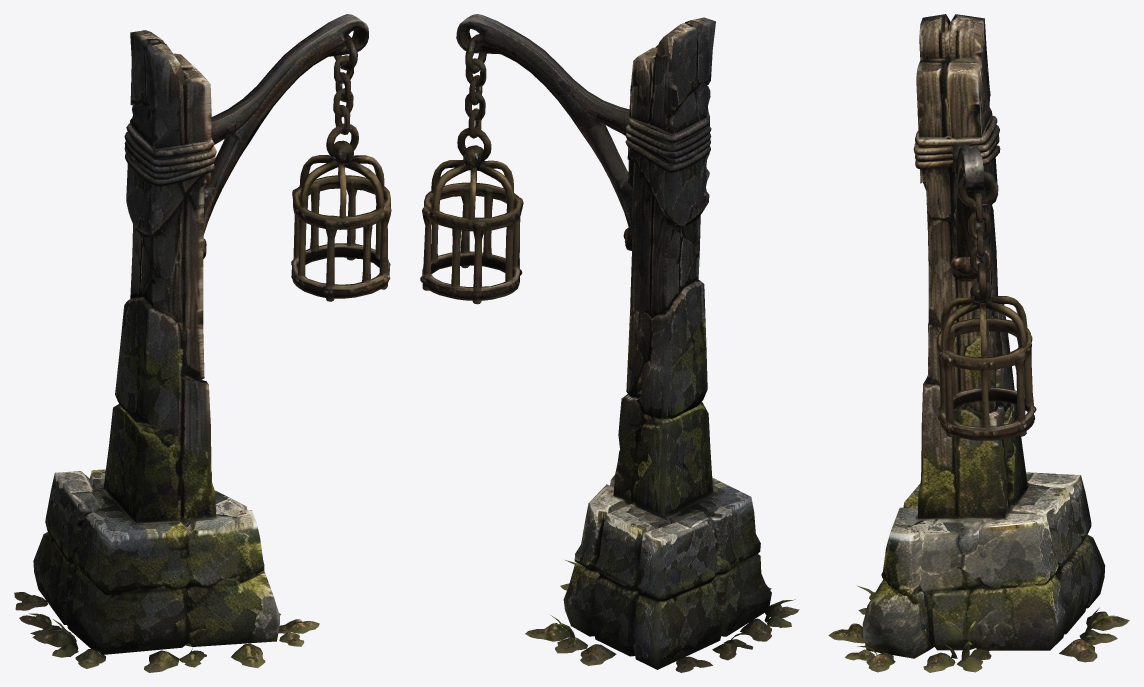
Rendered from act1-a06-4-bog-lure-post.glb.
3 views of the same model, side by side, from view 1: azimuth 30°, elevation 25°; view 2: azimuth 150°, elevation 25°; view 3: azimuth 270°, elevation 25° (orthographic). The views are drawn at different scales.
Visible parts, largest first — view 1: act1-a06-4-bog-lure-post; view 2: act1-a06-4-bog-lure-post; view 3: act1-a06-4-bog-lure-post.
Part boxes in pixels (<box>): act1-a06-4-bog-lure-post: <box>14,14,391,672</box>; act1-a06-4-bog-lure-post: <box>420,14,799,672</box>; act1-a06-4-bog-lure-post: <box>828,14,1129,672</box>.
Size of the model in its own units: 1.81 by 2.9 by 1.33.
1 material, 1 textured.
